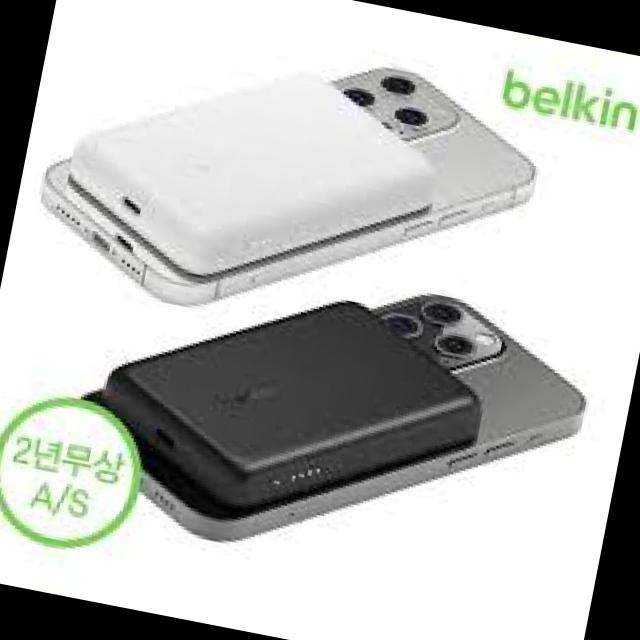portable-charger: (82, 252, 498, 552), (59, 31, 456, 319)
